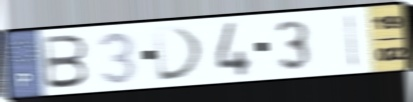3: (96, 29, 139, 86), (272, 18, 313, 72)
4: (214, 19, 254, 79)
B: (42, 33, 91, 91)
D: (151, 25, 208, 84)
I: (344, 12, 360, 70)
